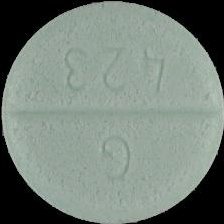0115-4233: (0, 0, 224, 224)
